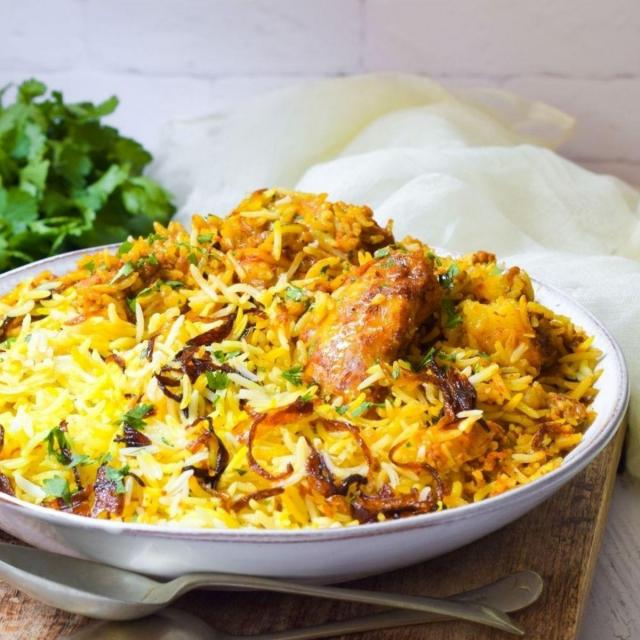chicken: (126, 198, 548, 494)
